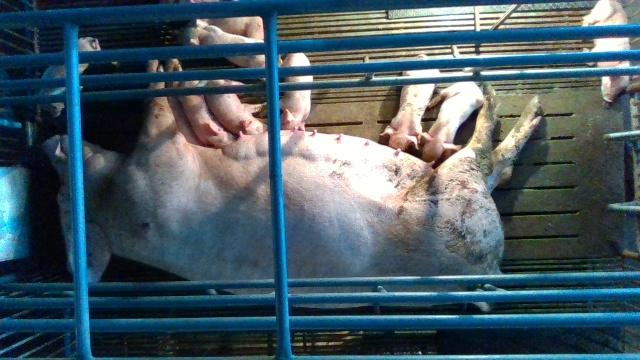piglet: (38, 37, 117, 117), (380, 53, 440, 152), (419, 82, 485, 164), (582, 0, 633, 103), (181, 19, 283, 68), (174, 80, 236, 148), (205, 80, 268, 133), (279, 53, 313, 130)
sow-sleep-lactate: (41, 58, 544, 311)
